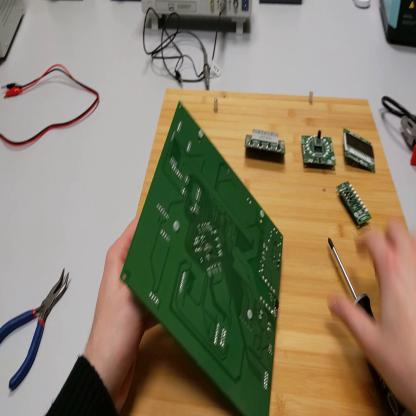hand: (327, 219, 416, 414), (90, 209, 152, 402)
low voltage board: (122, 102, 285, 415)
oscilloscope: (144, 3, 254, 38)
oscilloscope probe tip: (201, 44, 211, 89)
pliers: (2, 267, 69, 391), (401, 114, 416, 165)
power supply: (2, 2, 26, 63)
screwdriver-: (328, 240, 404, 415)
welder station: (381, 2, 416, 47)
working area: (122, 88, 412, 413)
